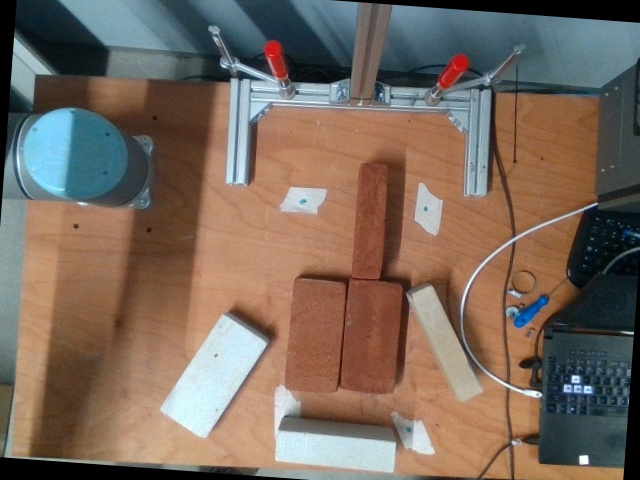brick: (342, 281, 402, 394), (287, 279, 343, 391)
brick-side: (160, 315, 267, 439), (410, 287, 482, 401), (275, 433, 394, 472), (353, 164, 388, 277)
